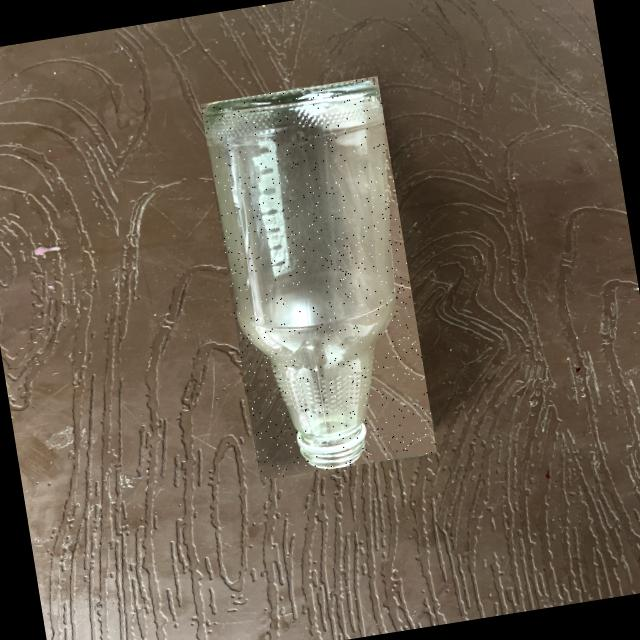Glass_Bottle: (205, 81, 395, 468)
